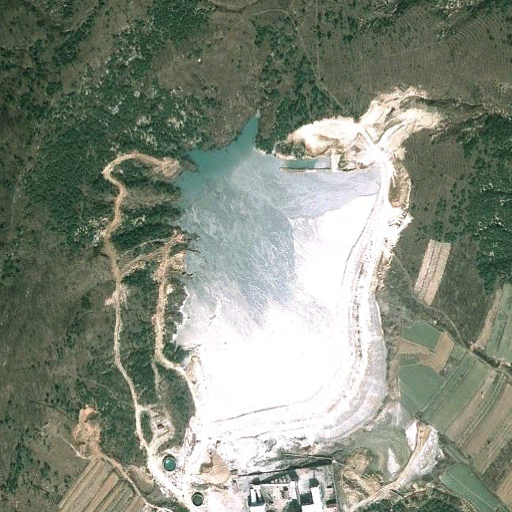tp: (163, 109, 445, 489)
